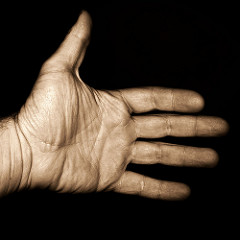palm: (31, 79, 133, 204)
